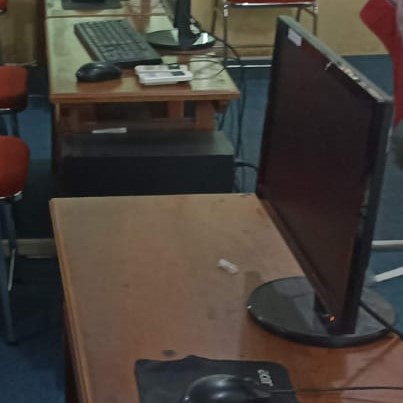monitor: (254, 15, 394, 339), (159, 0, 209, 36)
